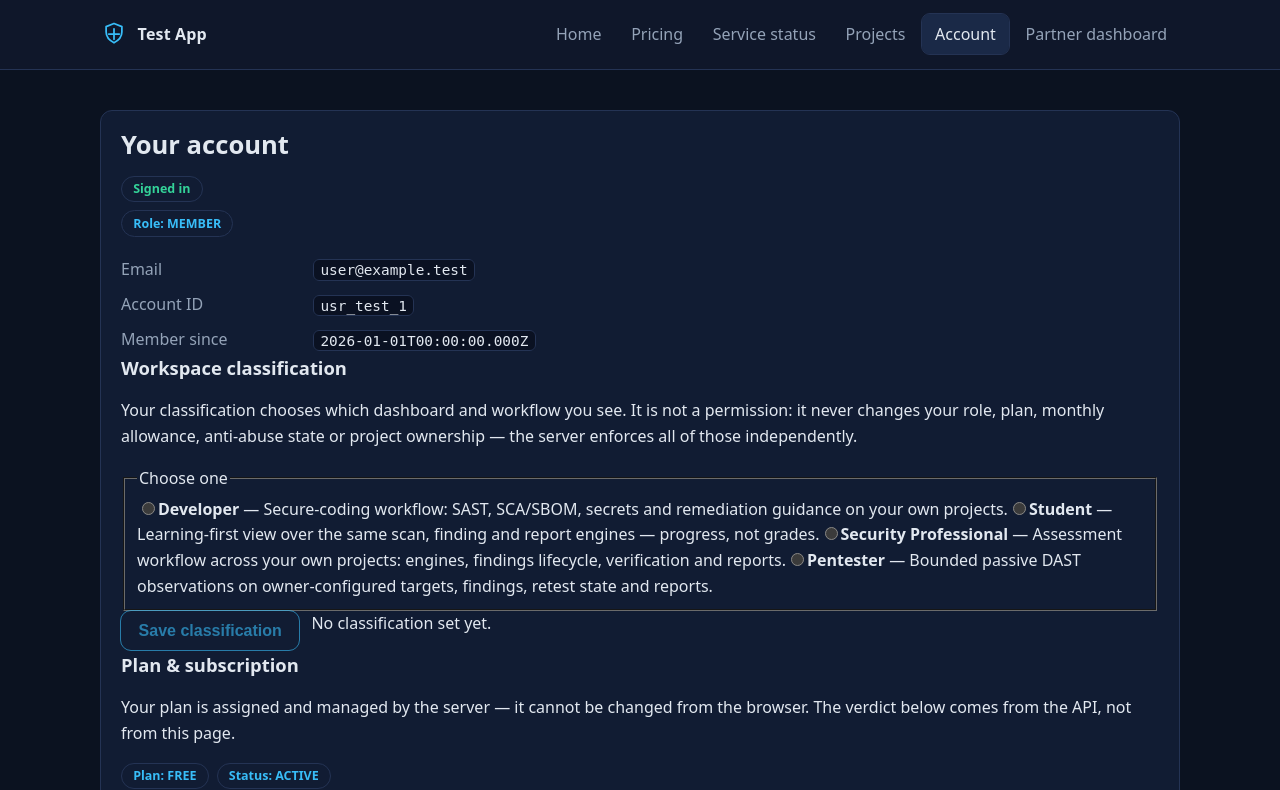
Phase 20 — AccountPage workspace classification switch › surfaces a server rejection without claiming success
Click the 4th radio button. click: {"x": 798, "y": 560}
box: [791,553,804,566]
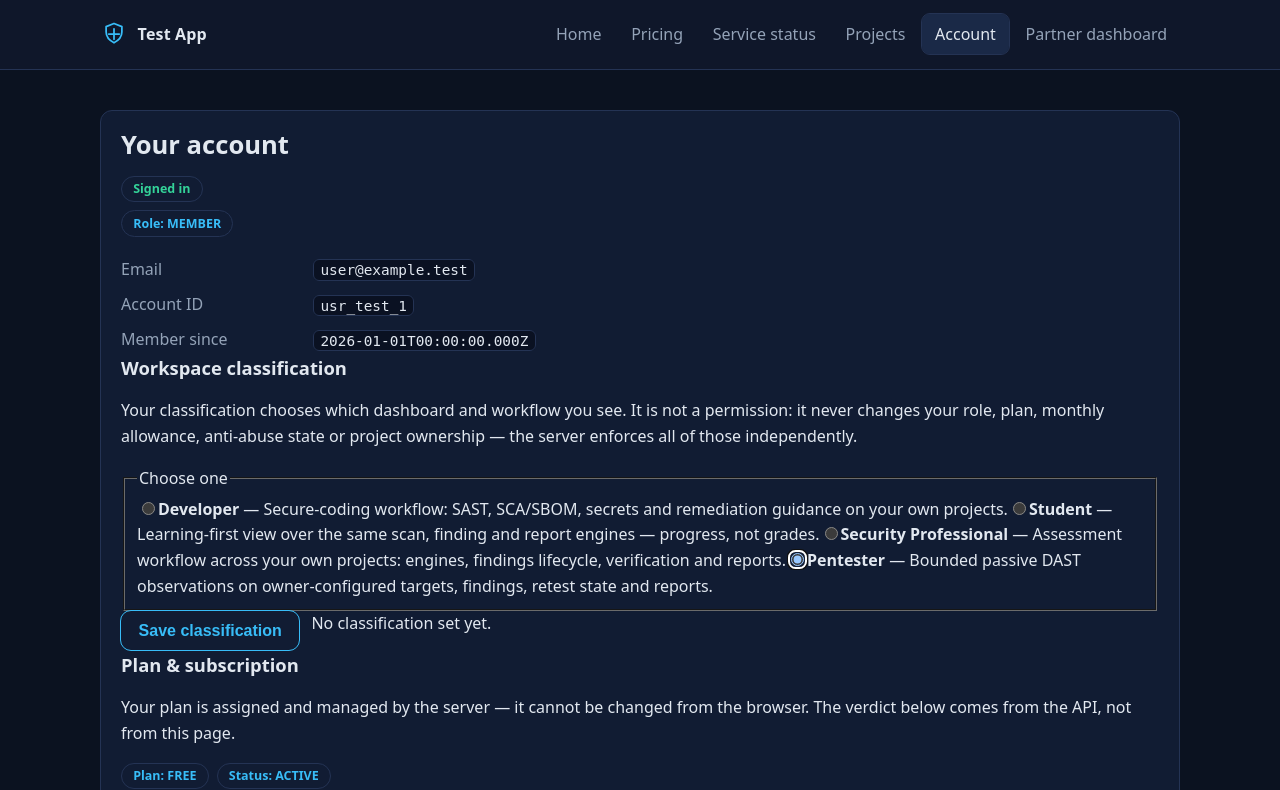
Click the button with test id "usertype-save". click: {"x": 210, "y": 631}
box: [121,611,299,650]
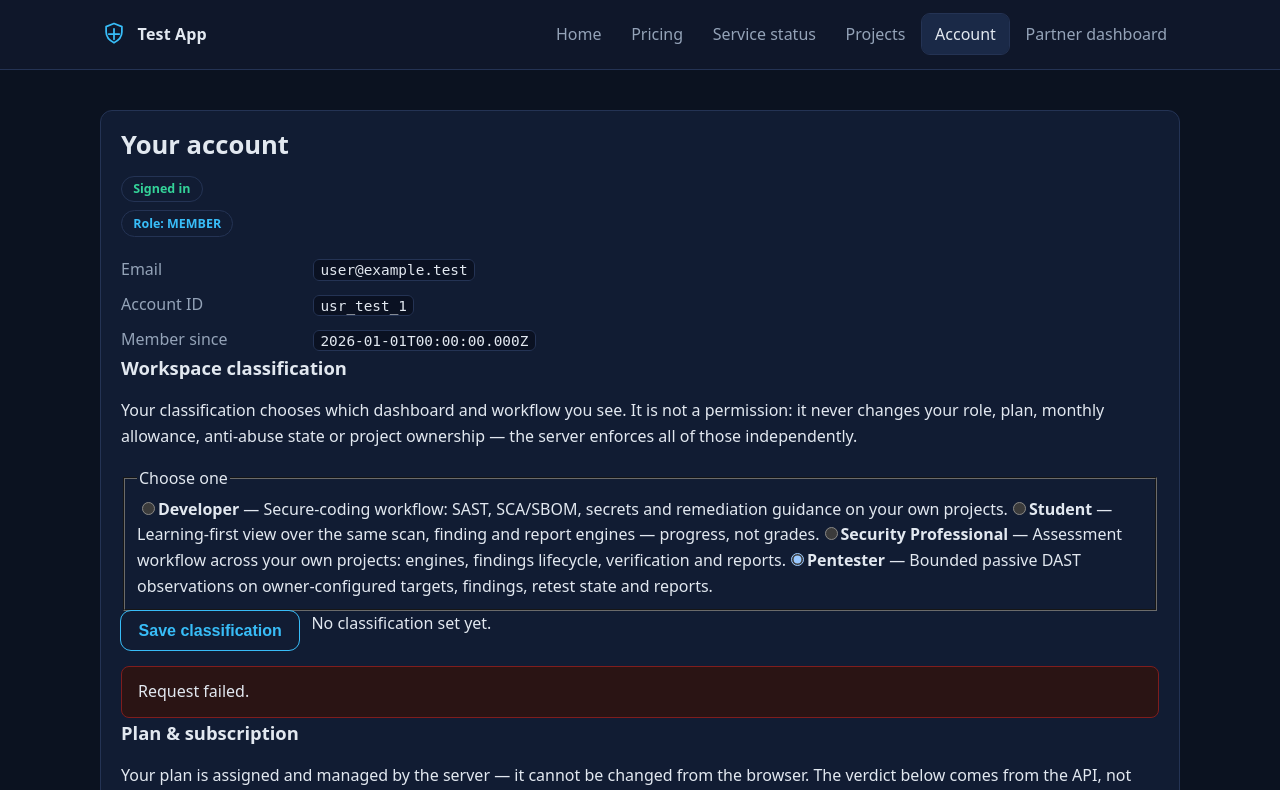
Expected: the message "Request failed." is shown, [121,666,1159,718]
